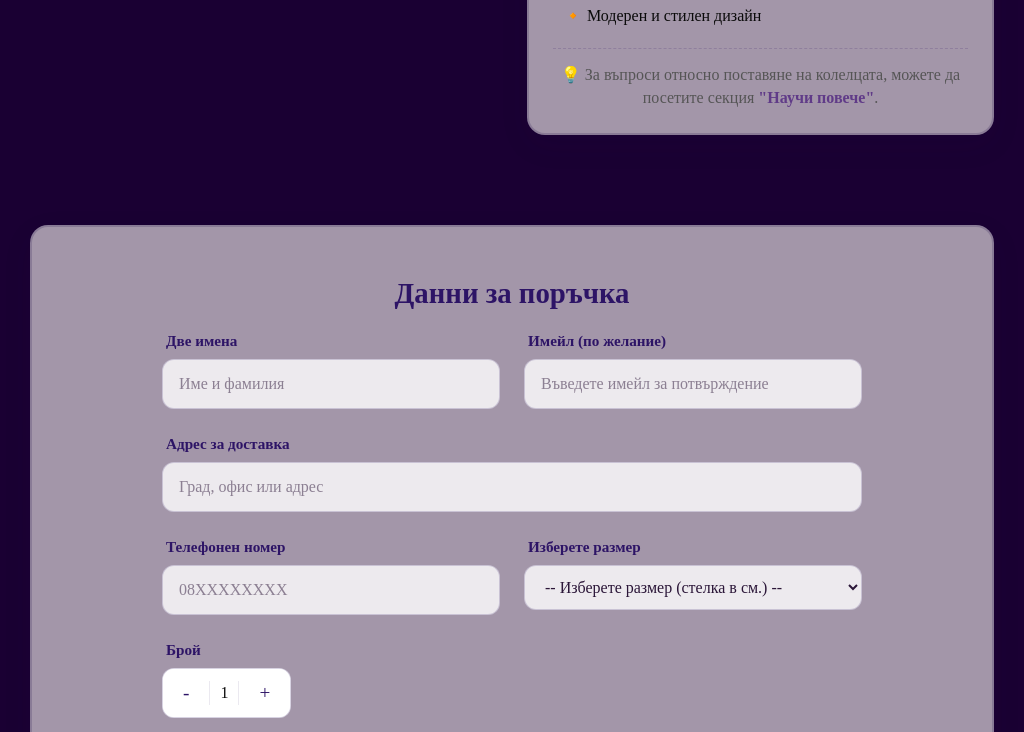
it: ProductDetails component › sends the order successfully with valid form data
(page scrolled)
Step 1. Type "Иван Иванов" into the field labelled "Две имена" → (331,384), box x1=162 y1=359 x2=500 y2=409
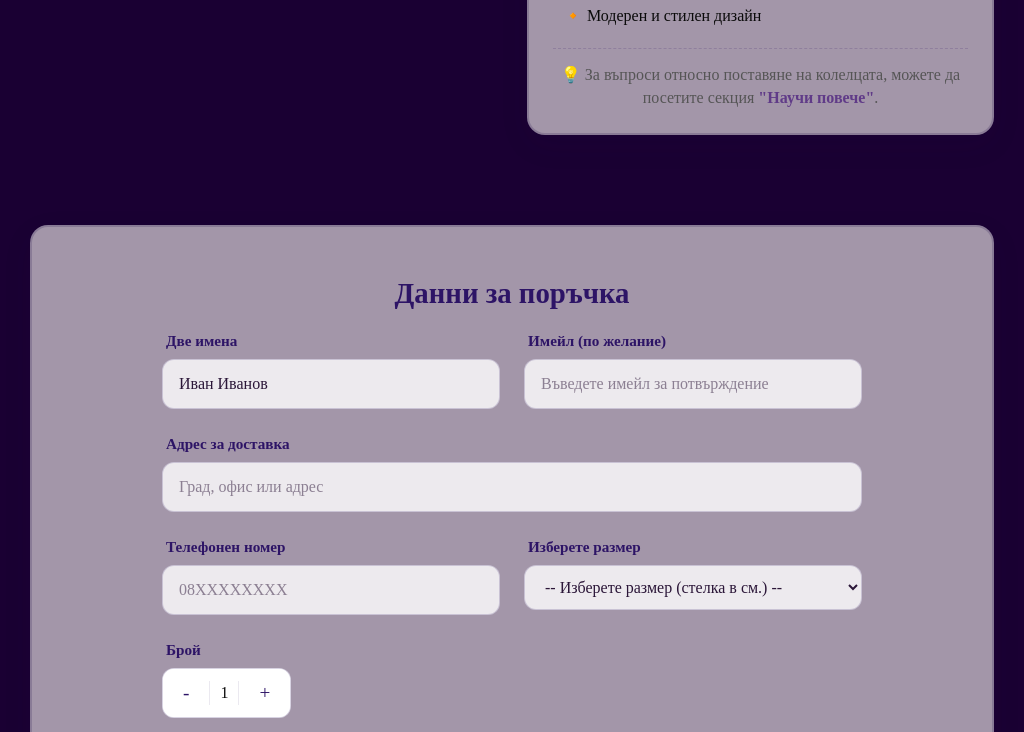
Step 2. Type "0888173406" into the field labelled "Телефонен номер" → (331,590), box x1=162 y1=565 x2=500 y2=615
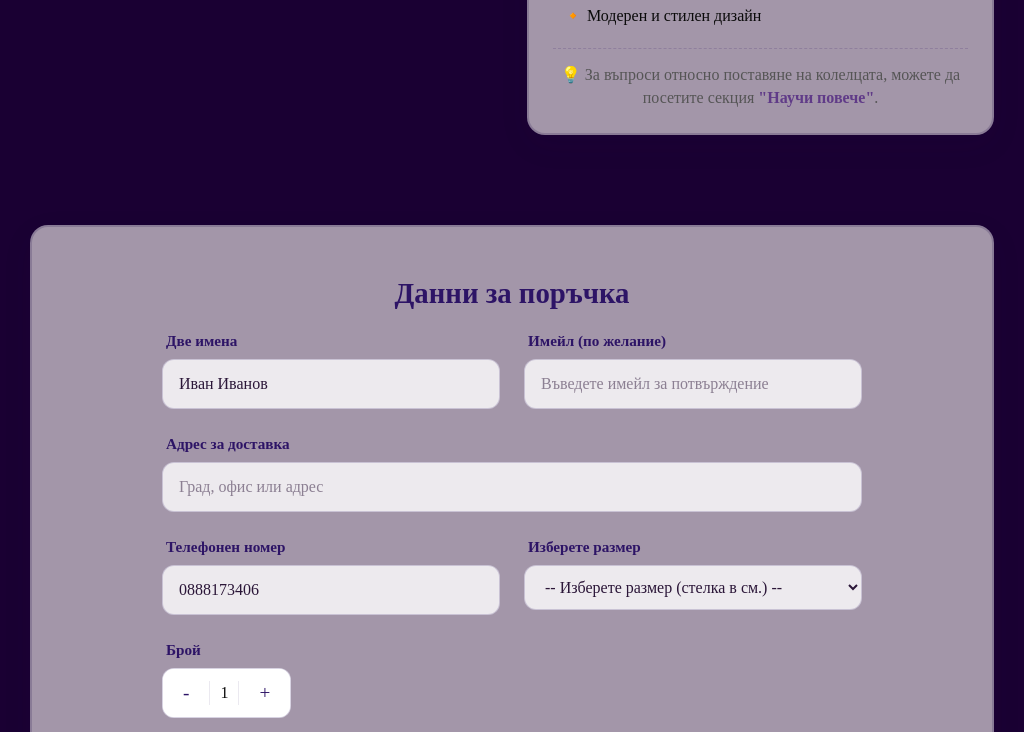
Step 3. Type "ул. Могила, София" into the field labelled "Адрес за доставка" → (512,487), box x1=162 y1=462 x2=862 y2=512
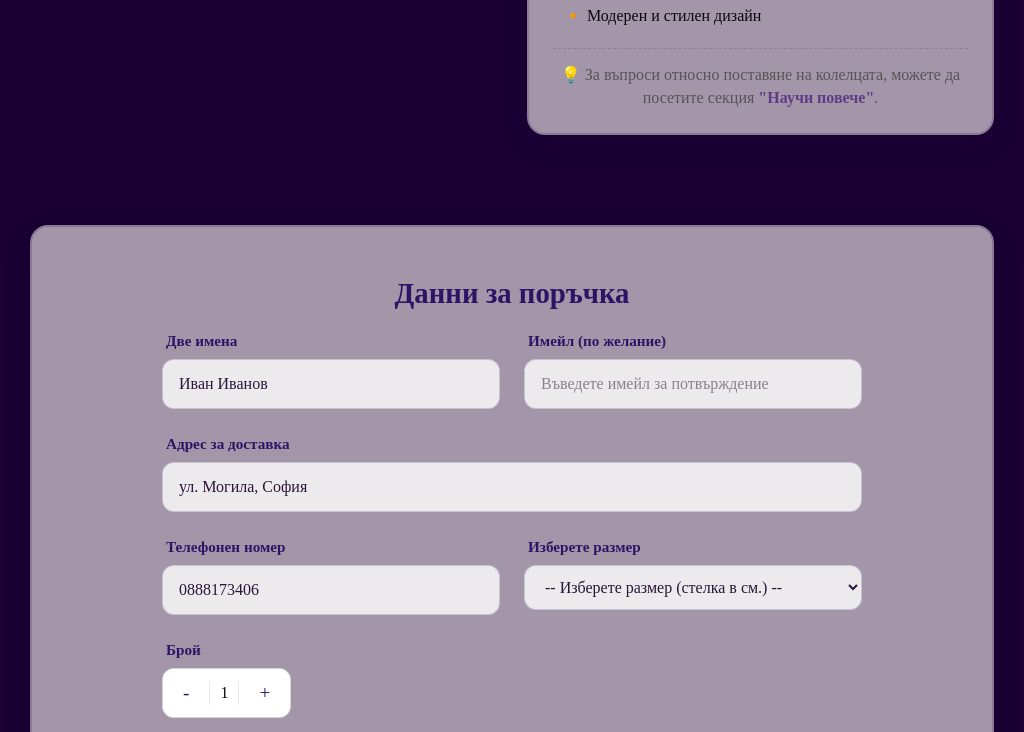
Step 4. Select "40" in the dropdown labelled "Изберете размер" → (693,587), box x1=524 y1=565 x2=862 y2=610
(page scrolled)
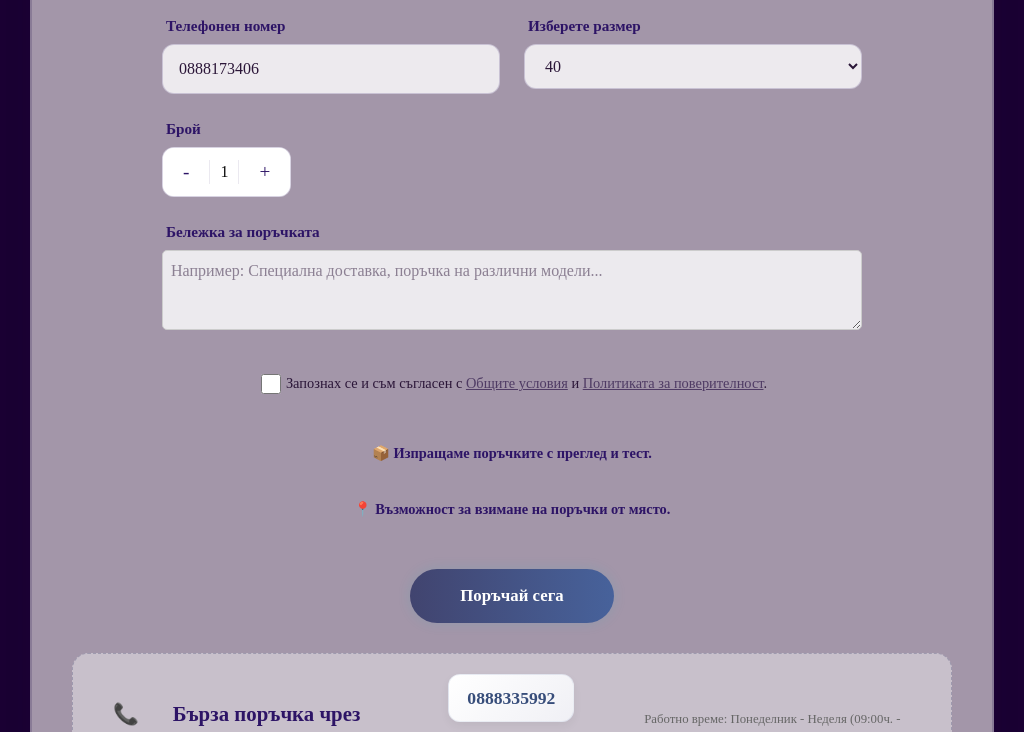
Step 5. Click the checkbox → (271,384), box x1=261 y1=374 x2=281 y2=394
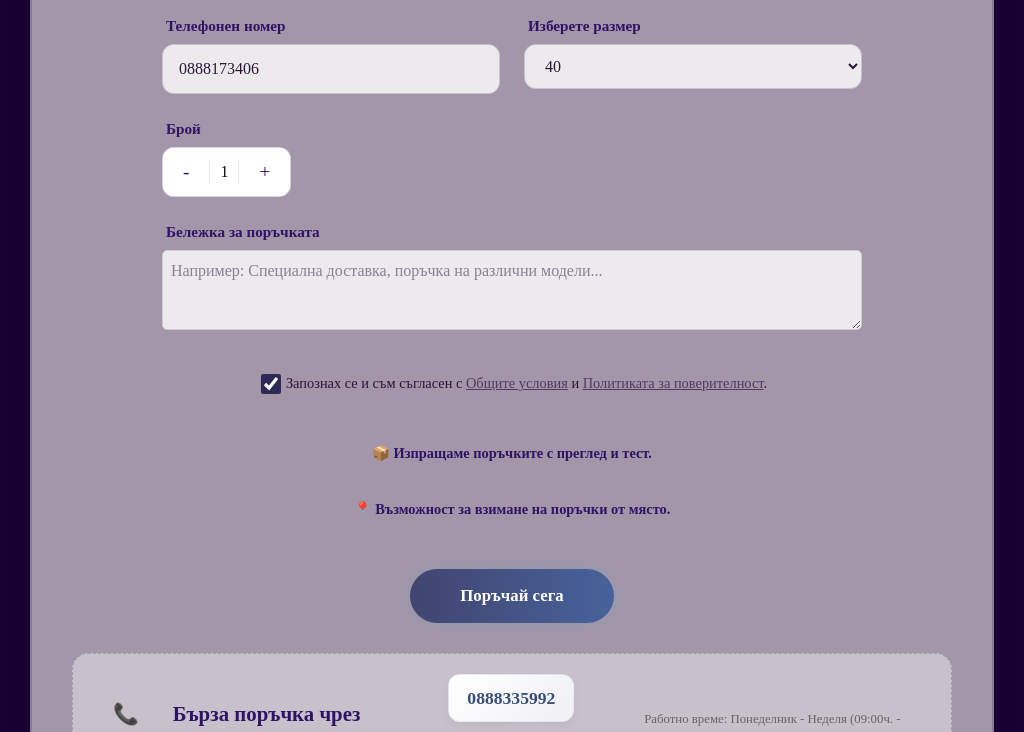
Step 6. Click the button "Поръчай сега" → (512,596), box x1=410 y1=569 x2=614 y2=623
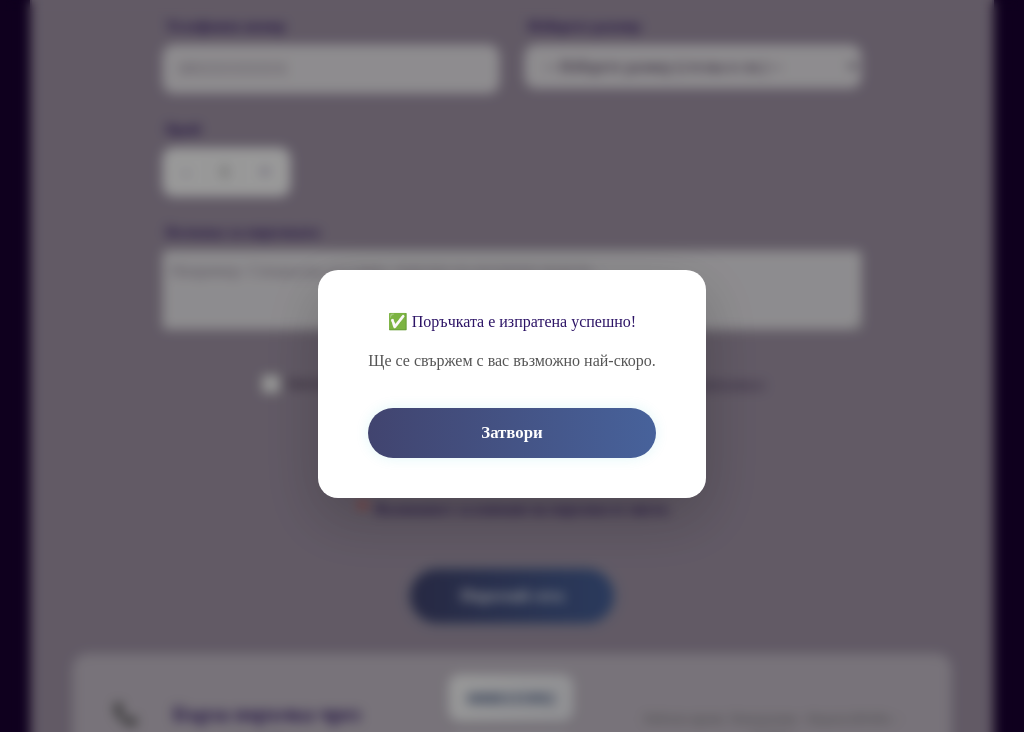
Expected: the heading "✅ Поръчката е изпратена успешно!" is shown, x1=368 y1=310 x2=656 y2=334
